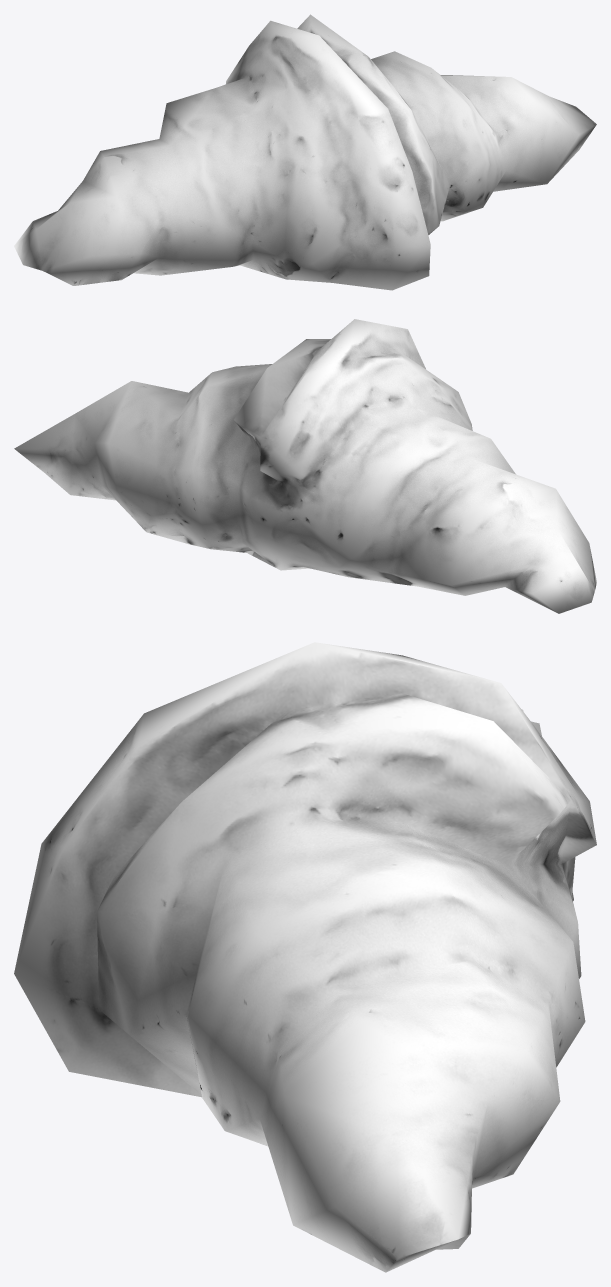
The model's file is Croissant.fbx.
3 renders of one model, top to bottom at view 1: azimuth 30°, elevation 25°; view 2: azimuth 150°, elevation 25°; view 3: azimuth 270°, elevation 25°, orthographic. The views are drawn at different scales.
Parts seen in each view (by area): view 1: Mesh; view 2: Mesh; view 3: Mesh.
Part boxes in pixels (box(x1,y1,x2,y2)): Mesh: box(14, 14, 596, 290); Mesh: box(14, 319, 596, 613); Mesh: box(14, 642, 596, 1272).
Size of the model in its own units: 14.75 by 5.35 by 6.96.
